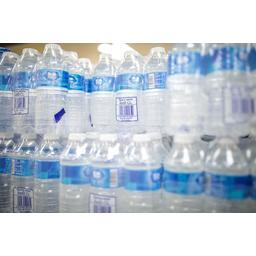plastic: (30, 40, 77, 139), (136, 43, 171, 132), (110, 42, 144, 130), (85, 50, 119, 132)
